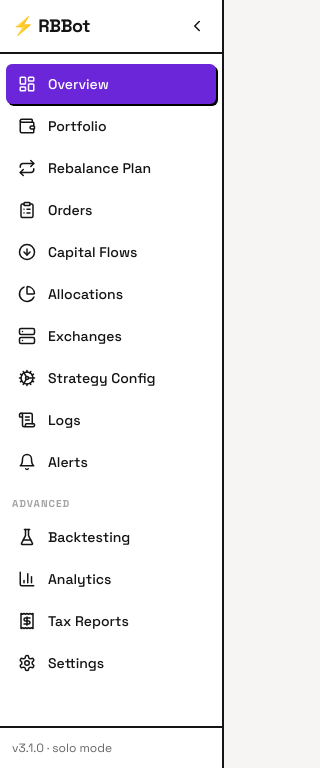
AppSidebar › collapses sidebar on toggle click
Click the button: (197, 26) x1=184 y1=13 x2=210 y2=39
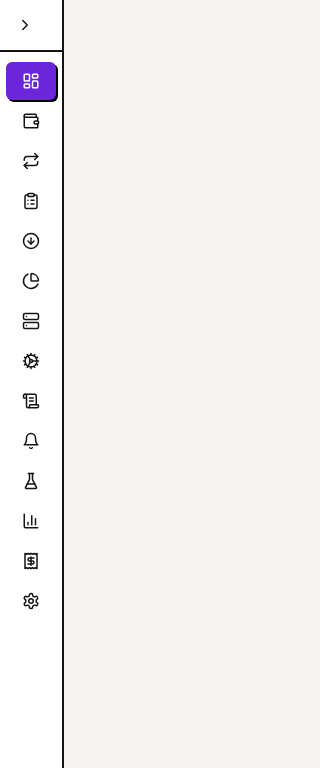
Check: the text "RBBot" is gone
Check: the text "Advanced" is gone
